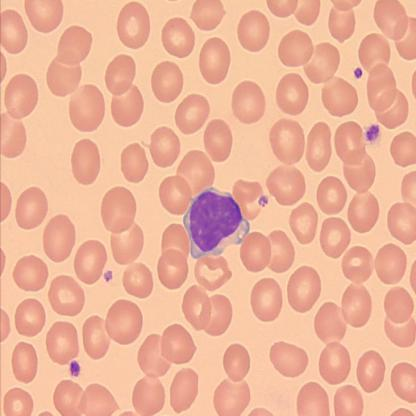Atypical lymphocyte: (183, 185, 252, 256)
